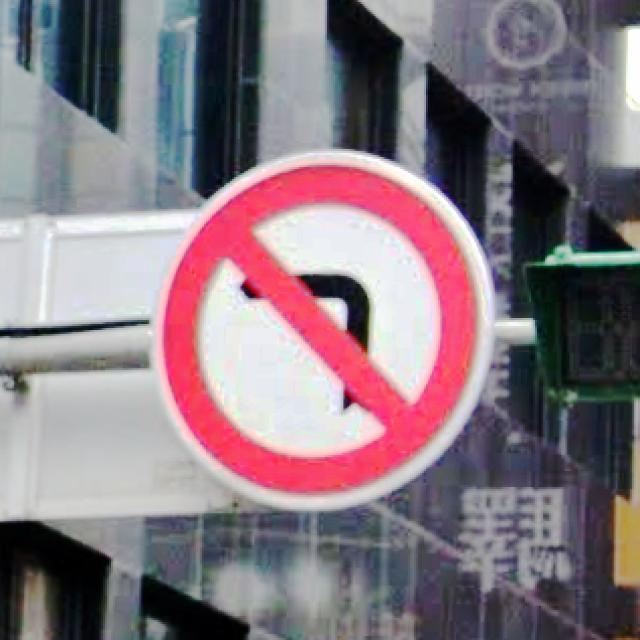noturnleft: (147, 145, 497, 511)
